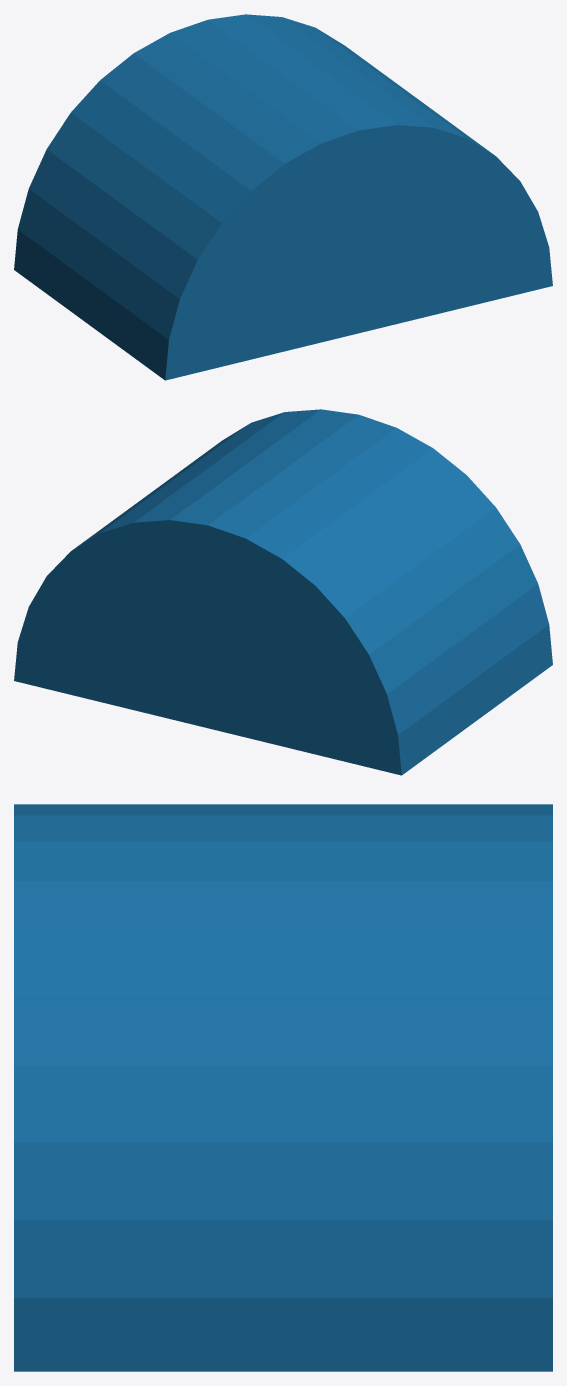
File: lvl 4 1per2 Lingkaran.fbx
3 views of the same model, one above another, from view 1: azimuth 30°, elevation 25°; view 2: azimuth 150°, elevation 25°; view 3: azimuth 270°, elevation 25° (orthographic). The views are drawn at different scales.
Parts seen in each view (by area): view 1: Cylinder.009; view 2: Cylinder.009; view 3: Cylinder.009.
Boxes of the visible parts, x1,y1,x2,y2 form: Cylinder.009: [14, 14, 552, 380]; Cylinder.009: [14, 409, 552, 775]; Cylinder.009: [14, 804, 552, 1371].
Size of the model in its own units: 294 by 147 by 199.
